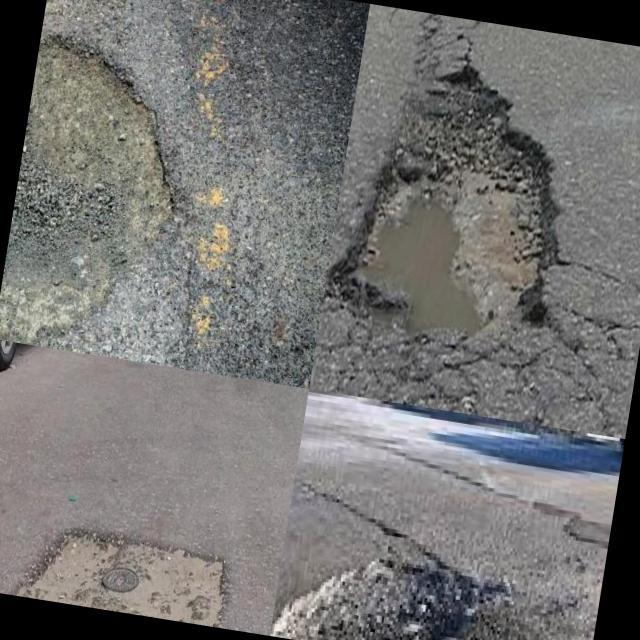Pothole: (325, 63, 558, 342), (0, 39, 173, 344), (270, 538, 511, 640), (8, 519, 228, 628)
